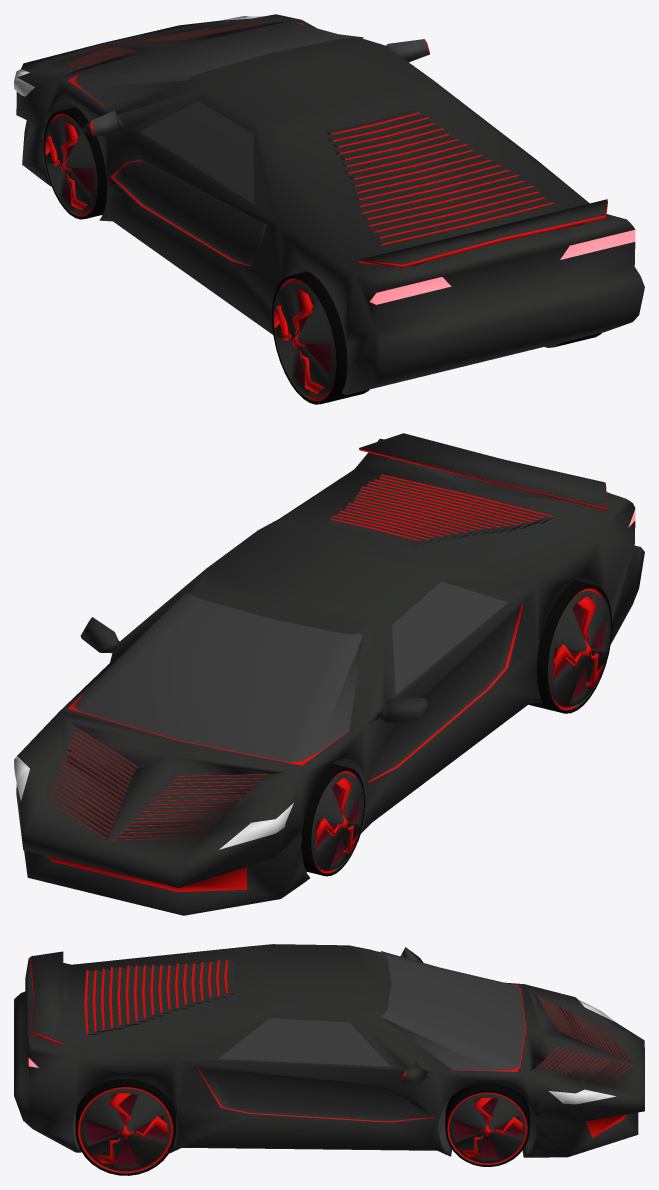
File: Car001.glb
3 renders of one model, top to bottom at view 1: azimuth 30°, elevation 25°; view 2: azimuth 150°, elevation 25°; view 3: azimuth 270°, elevation 25°, orthographic. The views are drawn at different scales.
Visible parts, largest first — view 1: Car; view 2: Car; view 3: Car.
Part boxes in pixels (box(x1,y1,x2,y2)): Car: box(14, 14, 644, 404); Car: box(14, 433, 644, 915); Car: box(14, 944, 644, 1175).
Bounding box in the file's own units: 1.86 × 1.02 × 3.92.
